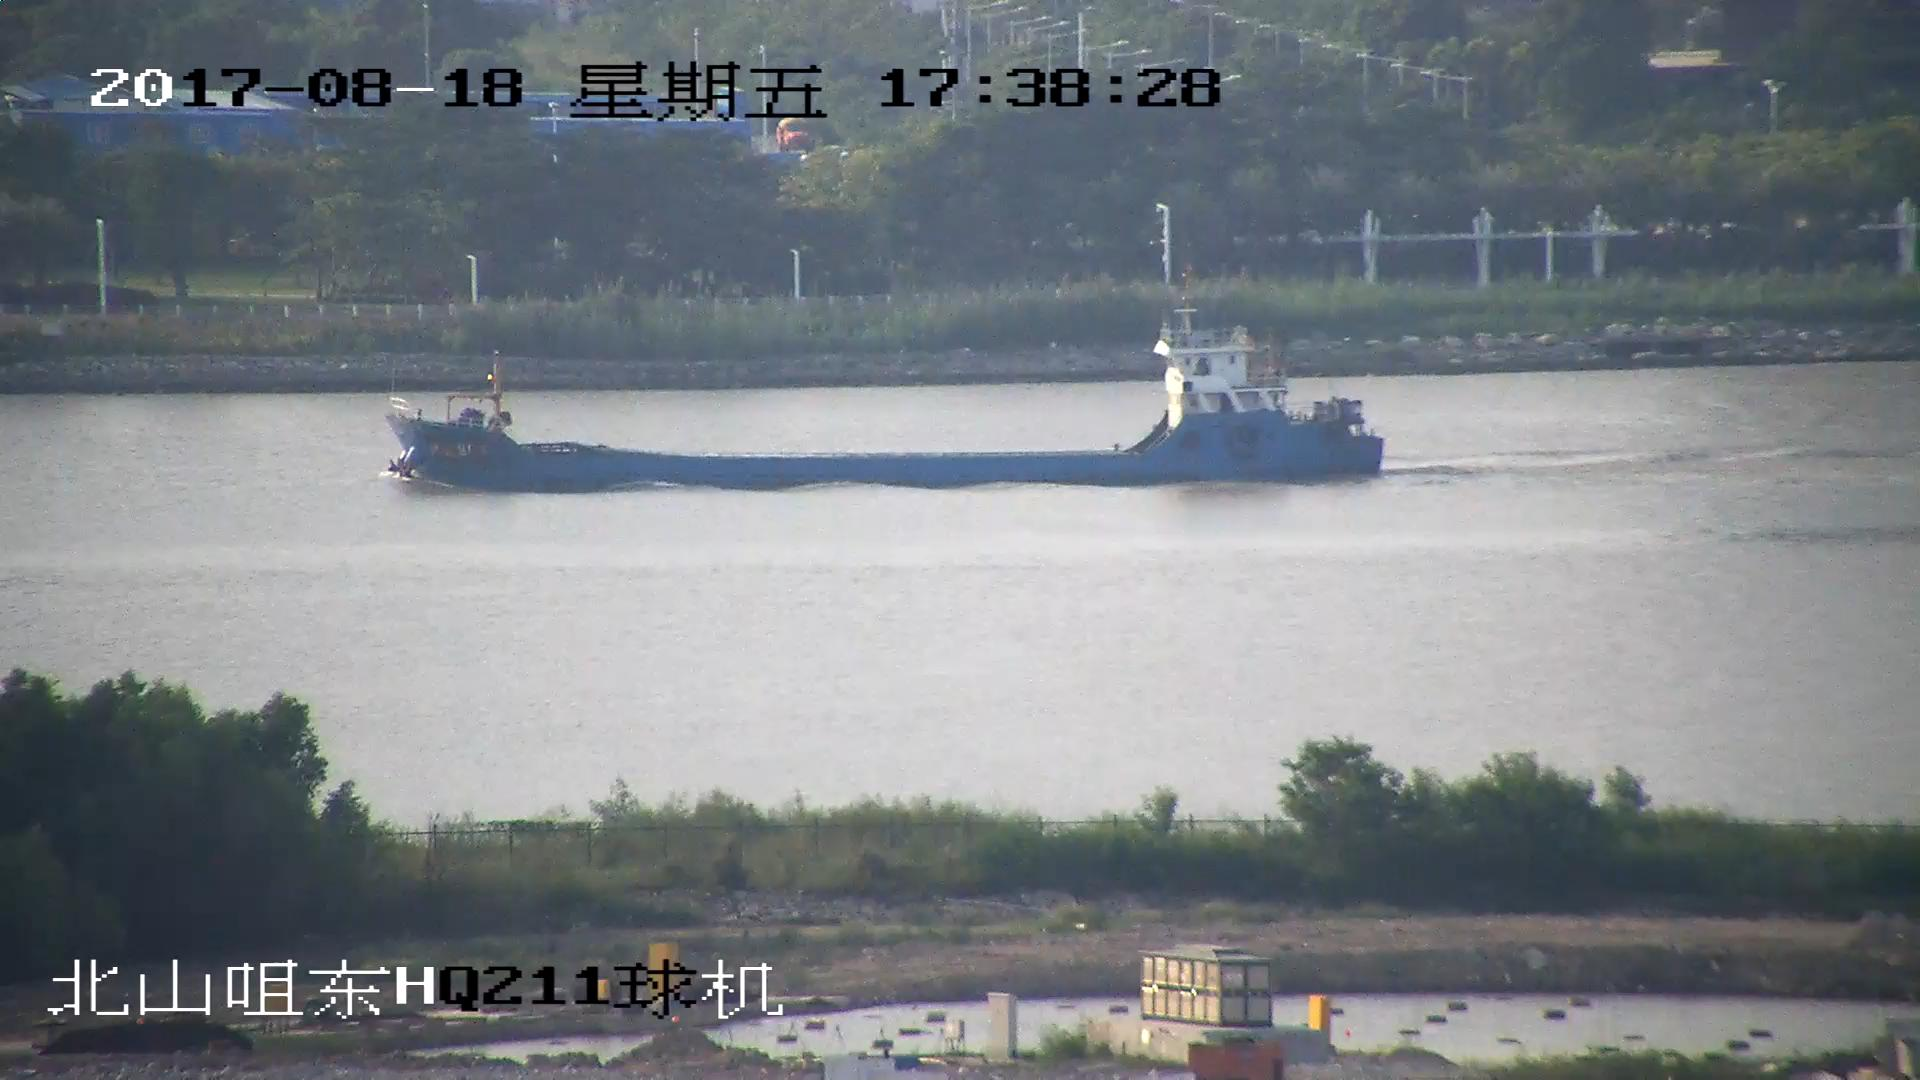general cargo ship: (384, 260, 1384, 487)
